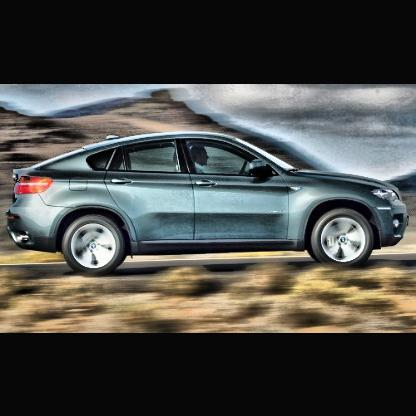BMW X6 SUV 2012: (7, 129, 411, 280)
